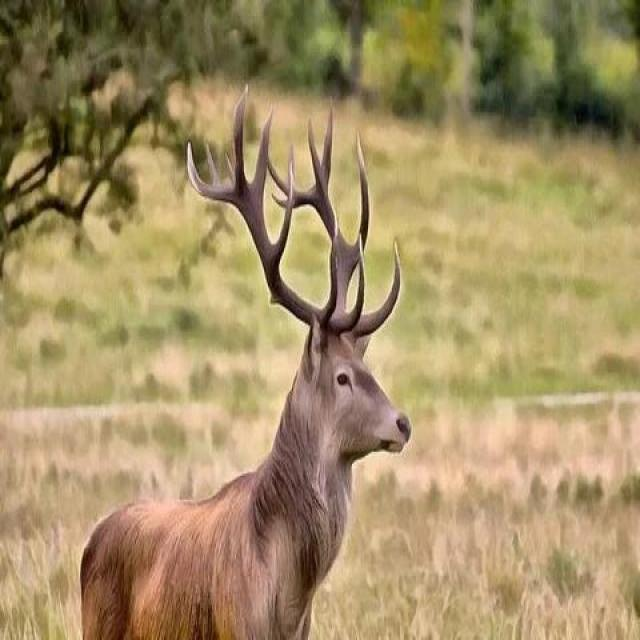deer: (96, 131, 425, 608)
